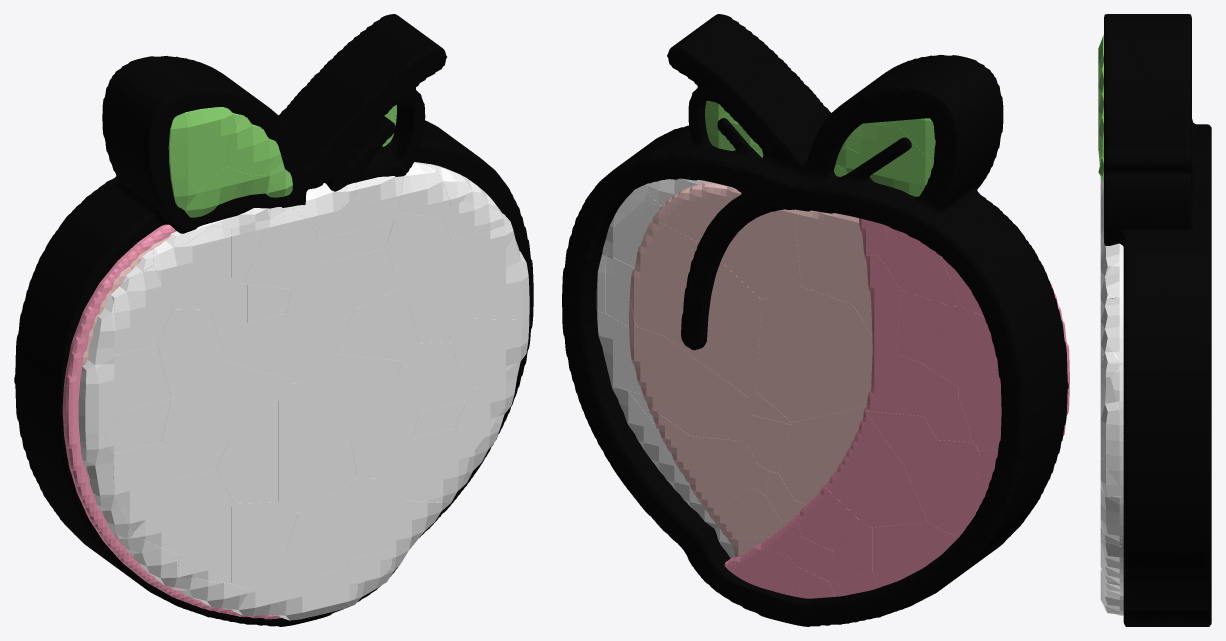
The model's file is Peach.fbx.
3 renders of one model, left to right at view 1: azimuth 30°, elevation 25°; view 2: azimuth 150°, elevation 25°; view 3: azimuth 270°, elevation 25°, orthographic. The views are drawn at different scales.
Visible parts, largest first — view 1: White_cell.090, White_cell.013, Outline_cell.017, White_cell, White_cell.019, White_cell.134, White_cell.135, White_cell.015, White_cell.021, White_cell.040, White_cell.042, Outline_cell.025 (+78 smaller); view 2: LightPink_cell.010, LightPink_cell.015, Pink_cell, LightPink_cell.022, Outline_cell.003, Outline_cell.019, Outline_cell.049, LightPink_cell.003, LightPink_cell.033, Pink_cell.014, LightPink_cell.036, LightPink_cell.071 (+63 smaller); view 3: Outline_cell.051, Outline_cell.003, Outline_cell.040, Outline_cell.047, Outline_cell.033, Outline_cell.028, Outline_cell.005, Outline_cell.046, Outline_cell.029, Outline_cell.004, Outline_cell.039, Outline_cell.037 (+28 smaller).
Boxes of the visible parts, <box> form: White_cell.090: <box>278,382,357,513</box>; White_cell.013: <box>286,263,354,383</box>; Outline_cell.017: <box>300,75,420,166</box>; White_cell: <box>177,361,289,439</box>; White_cell.019: <box>381,428,469,502</box>; White_cell.134: <box>216,401,278,503</box>; White_cell.135: <box>304,354,401,435</box>; White_cell.015: <box>231,502,297,590</box>; White_cell.021: <box>350,374,419,478</box>; White_cell.040: <box>157,309,223,398</box>; White_cell.042: <box>243,207,317,289</box>; Outline_cell.025: <box>116,85,204,186</box>; LightPink_cell.010: <box>757,286,872,422</box>; LightPink_cell.015: <box>629,327,748,441</box>; Pink_cell: <box>827,410,927,527</box>; LightPink_cell.022: <box>663,261,761,397</box>; Outline_cell.003: <box>829,57,965,125</box>; Outline_cell.019: <box>715,78,813,187</box>; Outline_cell.049: <box>755,116,859,214</box>; LightPink_cell.003: <box>795,209,867,304</box>; LightPink_cell.033: <box>629,217,698,334</box>; Pink_cell.014: <box>904,440,979,533</box>; LightPink_cell.036: <box>721,191,800,299</box>; LightPink_cell.071: <box>778,406,866,504</box>; Outline_cell.051: <box>1123,437,1211,541</box>; Outline_cell.003: <box>1106,14,1191,127</box>; Outline_cell.040: <box>1123,356,1182,441</box>; Outline_cell.047: <box>1104,20,1150,135</box>; Outline_cell.033: <box>1166,227,1211,321</box>; Outline_cell.028: <box>1177,324,1211,449</box>; Outline_cell.005: <box>1104,144,1149,224</box>; Outline_cell.046: <box>1137,481,1211,559</box>; Outline_cell.029: <box>1123,236,1170,304</box>; Outline_cell.004: <box>1123,539,1211,591</box>; Outline_cell.039: <box>1153,300,1211,368</box>; Outline_cell.037: <box>1123,298,1160,358</box>.
Size of the model in its own units: 10.78 by 12.36 by 2.39.
